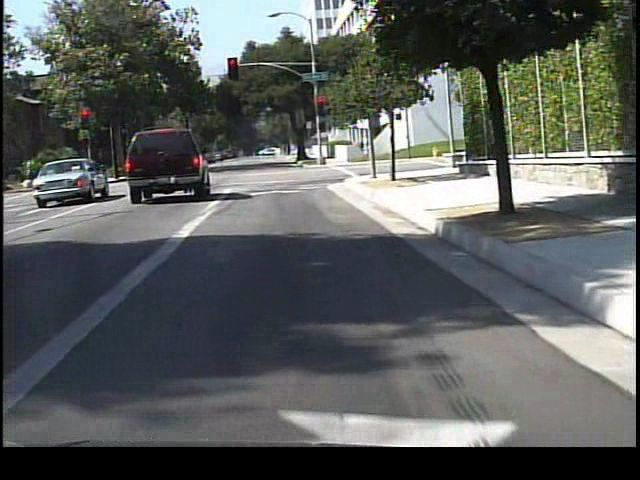person: (361, 135, 368, 163)
